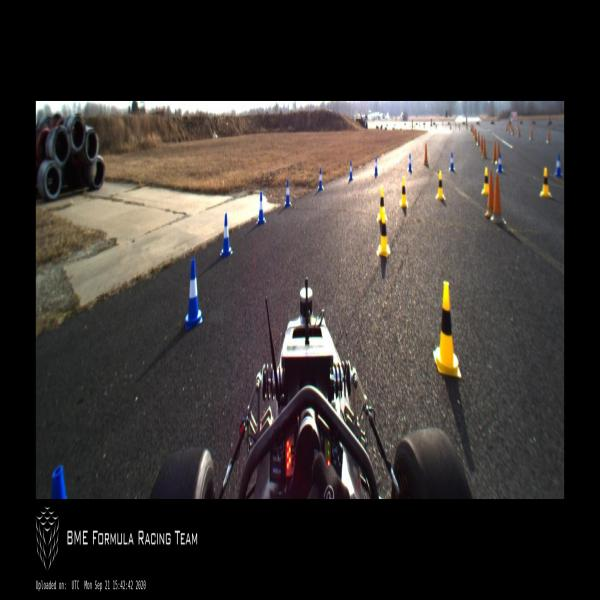blue_cone: (185, 259, 202, 329), (220, 213, 233, 257), (257, 192, 266, 224), (284, 180, 292, 208), (554, 154, 562, 176), (317, 168, 324, 190), (496, 153, 503, 172), (349, 161, 353, 181), (374, 157, 378, 176), (408, 154, 412, 172), (450, 153, 454, 171)
unknown_cone: (490, 173, 506, 224), (485, 171, 494, 215), (482, 139, 487, 159), (424, 144, 428, 165)
yellow_cone: (434, 282, 462, 377), (377, 208, 390, 257), (377, 188, 387, 222), (540, 167, 550, 198), (399, 177, 408, 207), (436, 171, 445, 200), (482, 167, 488, 194)
